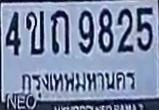2: (117, 7, 132, 52)
4: (5, 10, 20, 54)
5: (136, 7, 152, 50)
8: (98, 8, 112, 52)
9: (78, 9, 94, 52)
A02: (25, 10, 44, 54)
A22: (50, 9, 71, 56)
BKK: (16, 68, 138, 97)
